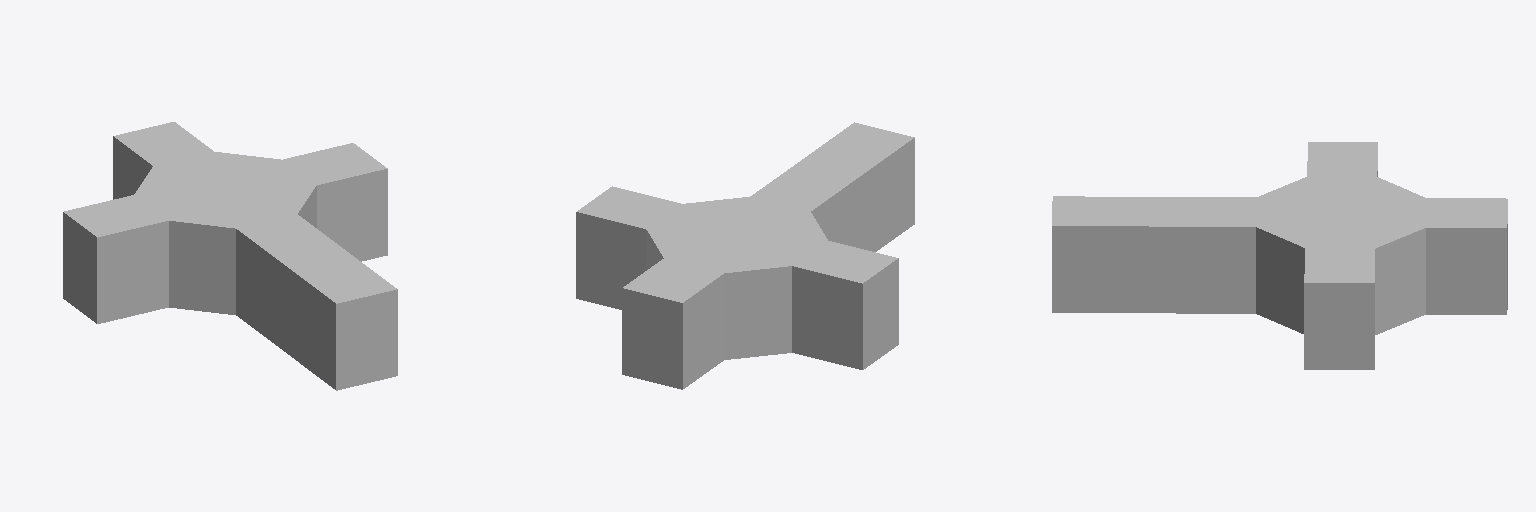
The model's file is Cross.obj.
The picture shows the model from 3 angles: view 1: azimuth 30°, elevation 25°; view 2: azimuth 150°, elevation 25°; view 3: azimuth 270°, elevation 25°; orthographic projection.
Visible parts, largest first — view 1: pCylinder1; view 2: pCylinder1; view 3: pCylinder1.
Boxes of the visible parts, x1,y1,x2,y2 form: pCylinder1: [63, 122, 397, 390]; pCylinder1: [576, 122, 914, 389]; pCylinder1: [1052, 142, 1507, 369].
Size of the model in its own units: 8.17 by 2.35 by 11.17.